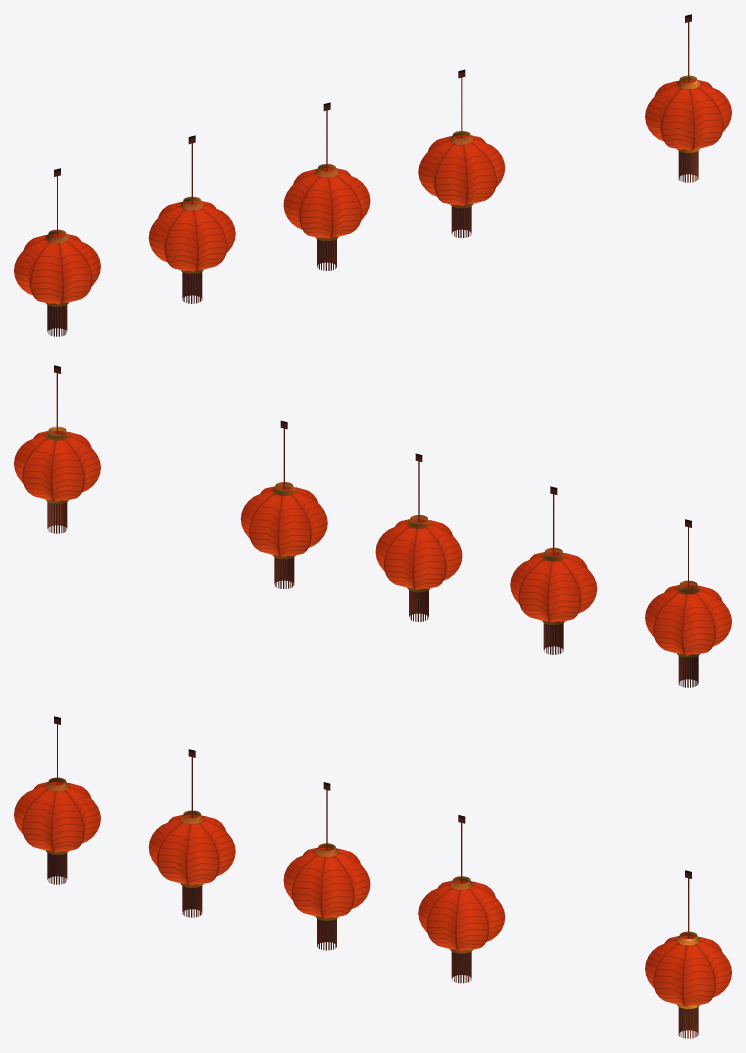
The model's file is Hanging latern.glb.
3 renders of one model, top to bottom at view 1: azimuth 30°, elevation 25°; view 2: azimuth 150°, elevation 25°; view 3: azimuth 330°, elevation 25°, orthographic.
Visible parts, largest first — view 1: Latern.001; view 2: Latern.001; view 3: Latern.001.
Part boxes in pixels (left/top/right/bottom): Latern.001: left=14, top=14, right=731, bottom=336; Latern.001: left=14, top=365, right=731, bottom=687; Latern.001: left=14, top=716, right=731, bottom=1038.
Bounding box in the file's own units: 4.73 × 1.05 × 0.476.
1 material, 1 textured.
